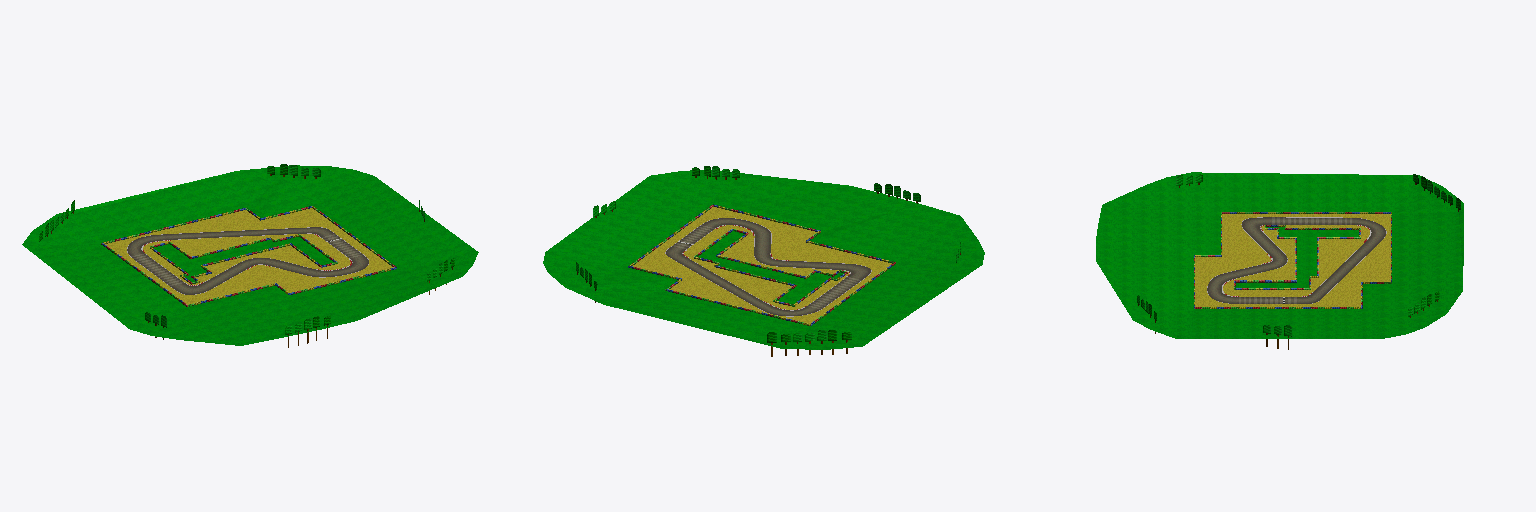
3 renders of one model, left to right at view 1: azimuth 30°, elevation 25°; view 2: azimuth 150°, elevation 25°; view 3: azimuth 270°, elevation 25°, orthographic.
Visible parts, largest first — view 1: polygon4, polygon7, polygon5, polygon6, polygon1, polygon2; view 2: polygon4, polygon7, polygon5, polygon6, polygon1, polygon2; view 3: polygon4, polygon7, polygon5, polygon6, polygon1, polygon2.
Boxes of the visible parts, <box> form: polygon4: <box>22,165,478,345</box>; polygon7: <box>105,208,393,304</box>; polygon5: <box>127,227,368,294</box>; polygon6: <box>101,206,396,306</box>; polygon1: <box>39,164,454,347</box>; polygon2: <box>131,234,363,285</box>; polygon4: <box>543,170,984,349</box>; polygon7: <box>633,207,891,323</box>; polygon5: <box>665,218,871,316</box>; polygon6: <box>628,204,895,325</box>; polygon1: <box>576,166,960,356</box>; polygon2: <box>673,225,861,309</box>; polygon4: <box>1096,172,1463,338</box>; polygon7: <box>1195,214,1390,306</box>; polygon5: <box>1207,217,1386,303</box>; polygon6: <box>1194,212,1391,308</box>; polygon1: <box>1137,174,1460,349</box>; polygon2: <box>1239,217,1351,303</box>.
Bounding box in the file's own units: 353 × 25.91 × 331.
8 materials, 8 textured.